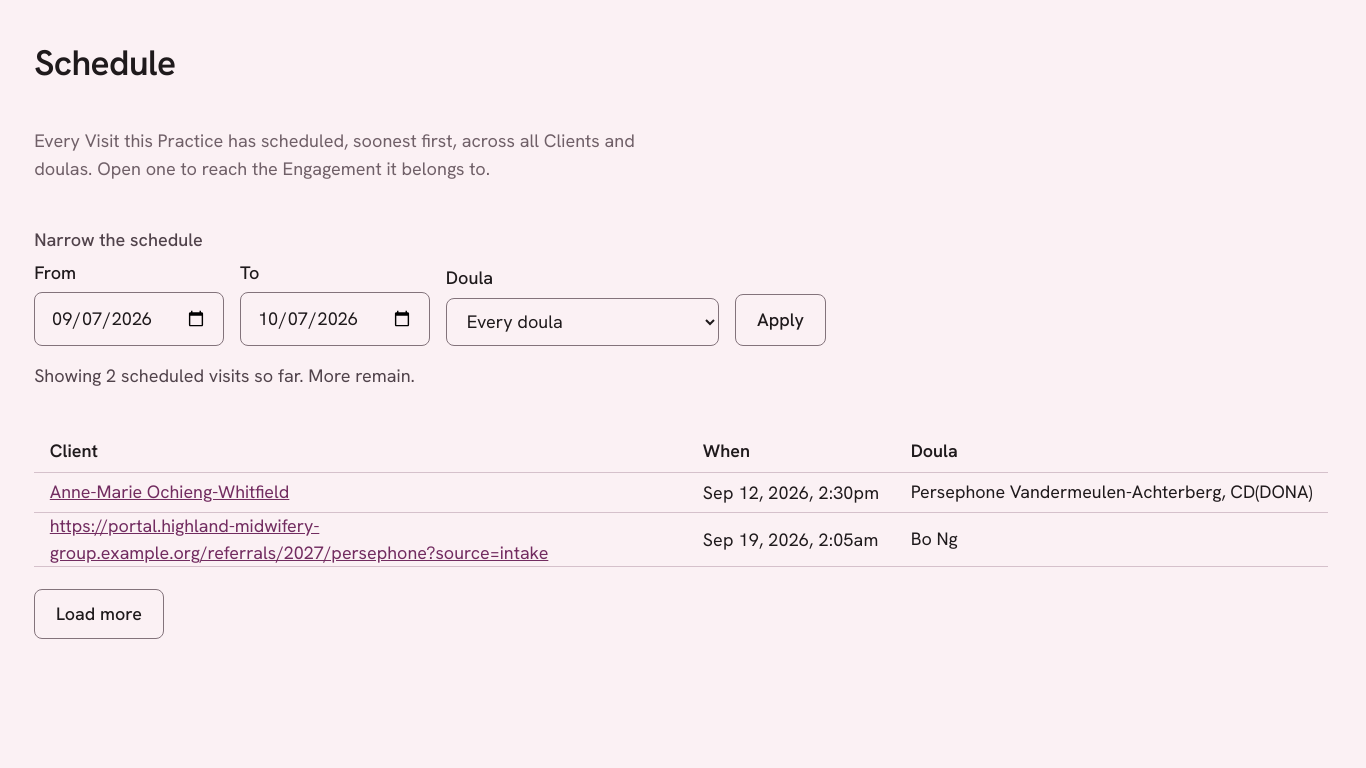
Test: the Practice-wide schedule (#263) › reports a failed next page in place rather than losing the list
This screenshot has width=1366, height=768.
Click the button "Load more" at {"x": 99, "y": 614}, box left=34, top=589, right=164, bottom=639
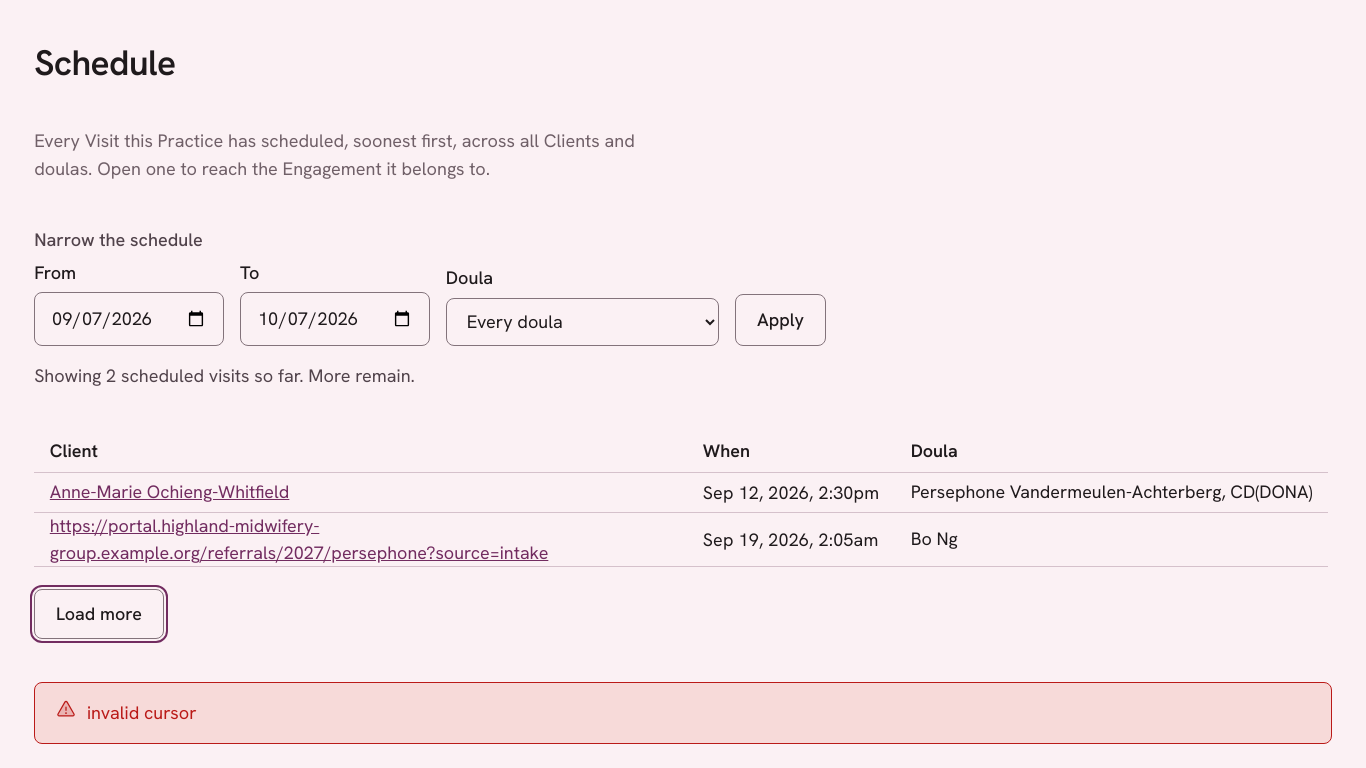
Expected: the link "Anne-Marie Ochieng-Whitfield" is shown, left=50, top=480, right=289, bottom=503
Result: the message "invalid cursor" is shown at left=34, top=682, right=1332, bottom=744
